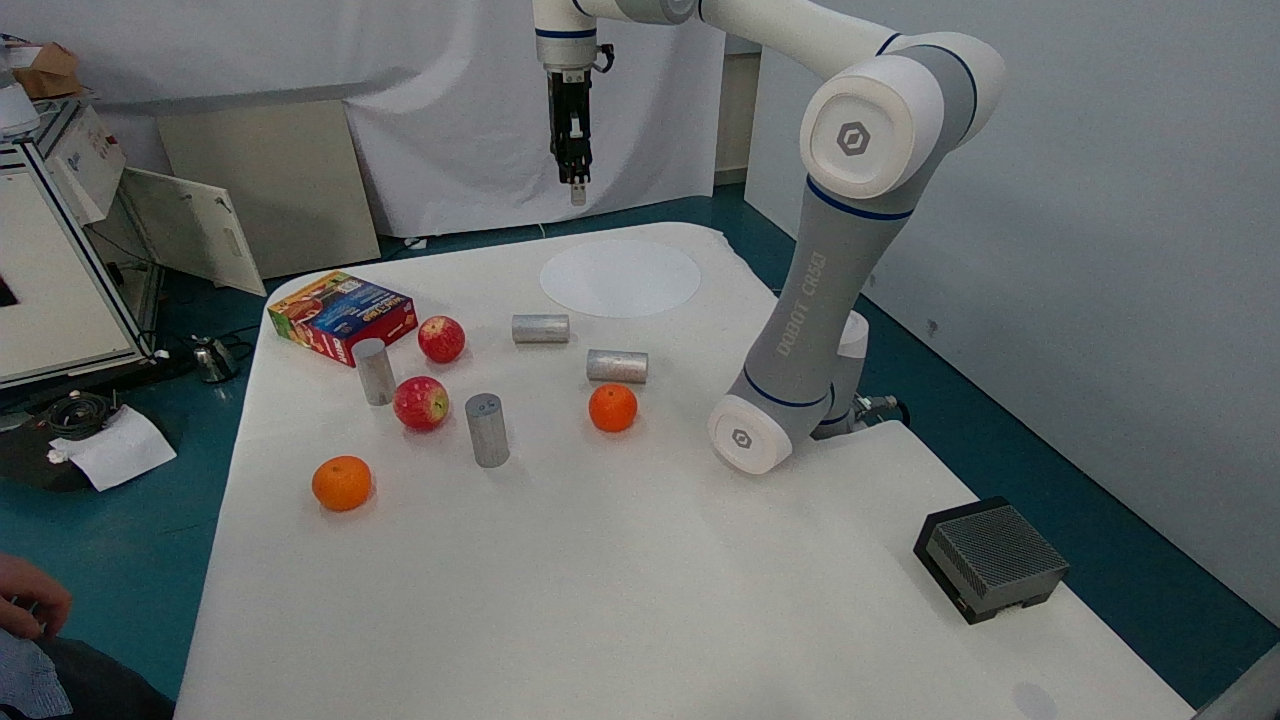apple: (380, 368, 455, 441), (409, 311, 472, 363)
metal rod: (453, 374, 526, 485), (335, 328, 408, 413), (572, 338, 661, 390), (501, 300, 578, 354)
orange: (297, 435, 378, 525), (575, 375, 650, 453)
